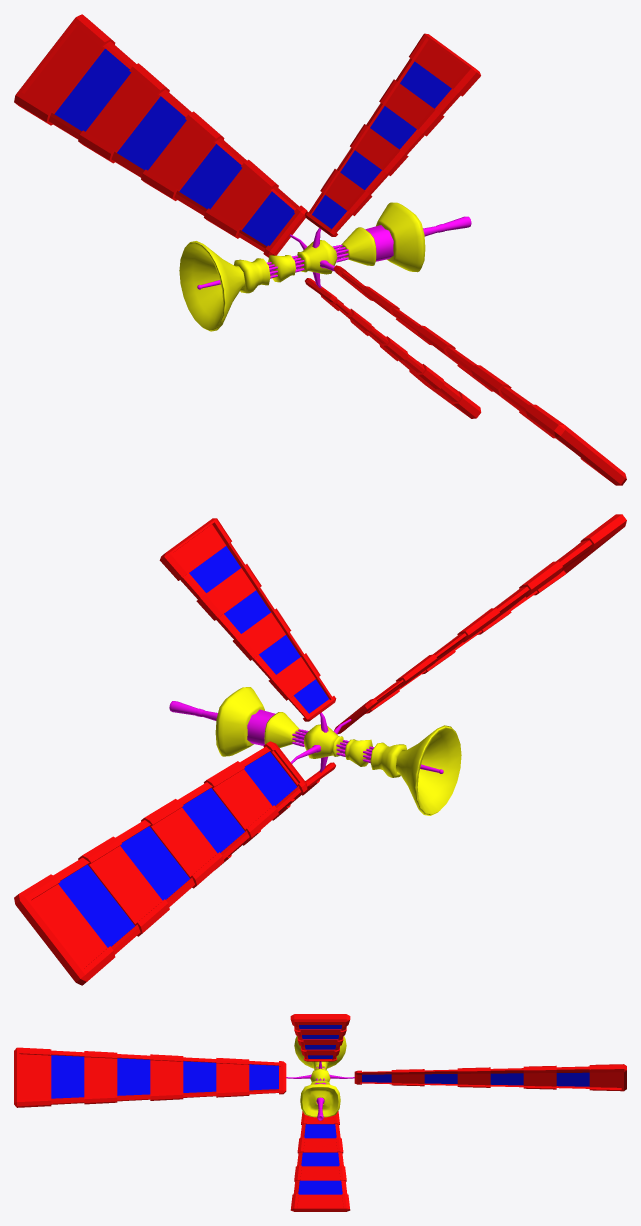
Rendered from sat_05.obj.
3 renders of one model, top to bottom at view 1: azimuth 30°, elevation 25°; view 2: azimuth 150°, elevation 25°; view 3: azimuth 270°, elevation 25°, orthographic. The views are drawn at different scales.
Parts seen in each view (by area): view 1: sat_05 st_grp; view 2: sat_05 st_grp; view 3: sat_05 st_grp.
Part boxes in pixels (x1=…): sat_05 st_grp: x1=14, y1=14, x2=626, y2=485; sat_05 st_grp: x1=14, y1=514, x2=626, y2=985; sat_05 st_grp: x1=14, y1=1014, x2=626, y2=1211.
Size of the model in its own units: 518 by 639 by 1800.
